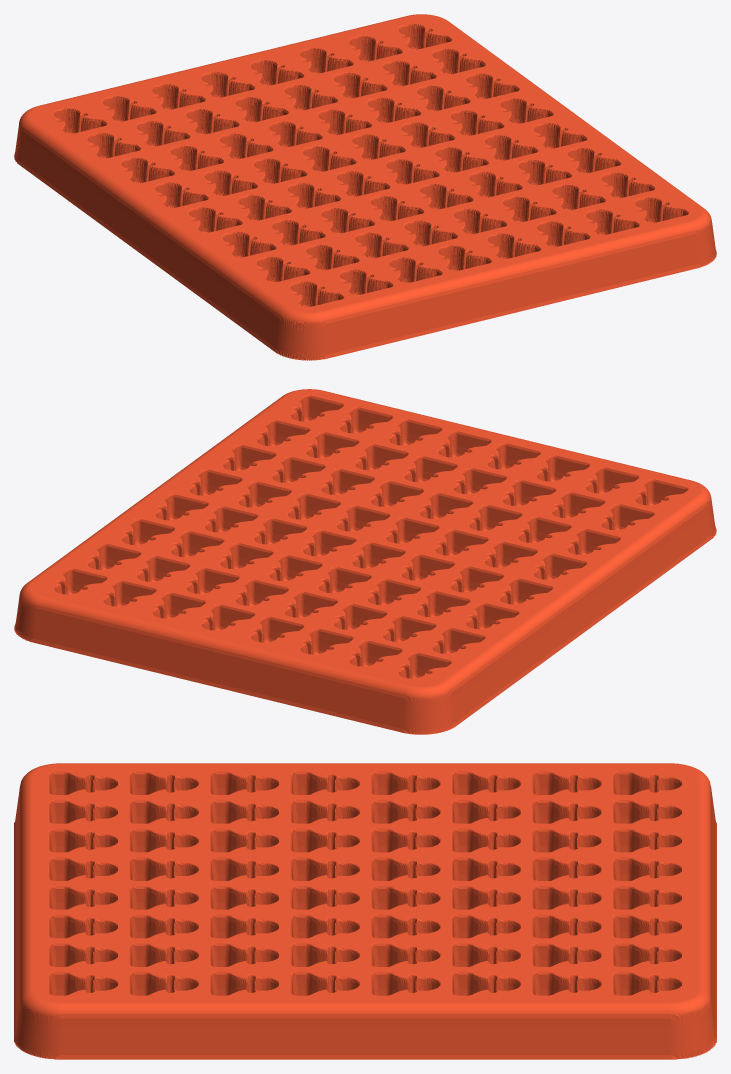
The model's file is mold.glb.
3 renders of one model, top to bottom at view 1: azimuth 30°, elevation 25°; view 2: azimuth 150°, elevation 25°; view 3: azimuth 270°, elevation 25°, orthographic. The views are drawn at different scales.
Parts seen in each view (by area): view 1: geometry_0; view 2: geometry_0; view 3: geometry_0.
Boxes of the visible parts, x1,y1,x2,y2 form: geometry_0: (14,14,716,360); geometry_0: (14,389,716,734); geometry_0: (14,763,716,1059).
Bounding box in the file's own units: 0.1157 × 0.0105 × 0.1355.
